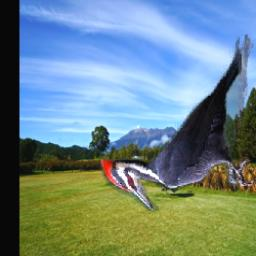Woodpecker: (100, 34, 254, 211)
